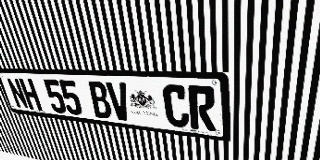5: (58, 80, 84, 116), (43, 79, 68, 114)
B: (87, 81, 113, 119)
C: (162, 84, 190, 128)
H: (18, 78, 43, 111)
N: (6, 78, 29, 109)
R: (188, 85, 216, 131)
V: (105, 82, 132, 121)
